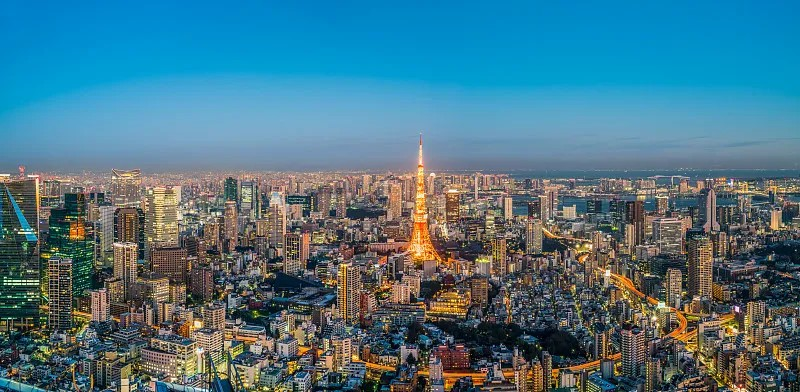Tokyo: (403, 129, 444, 265)
